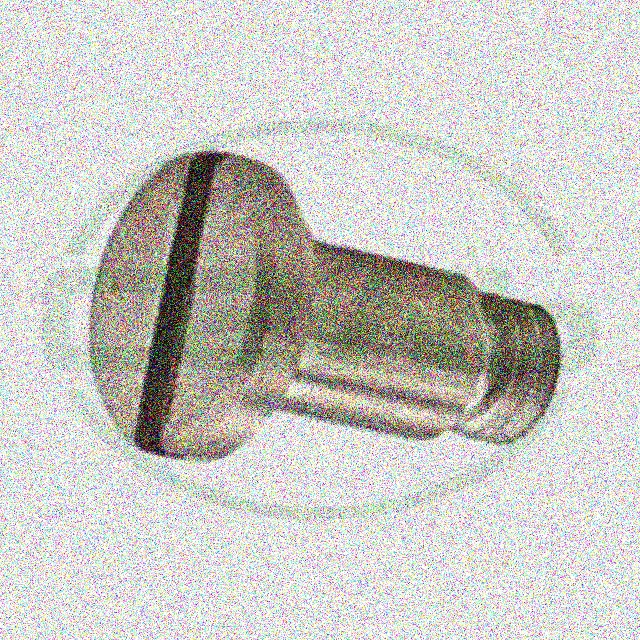duz: (85, 148, 307, 465)
